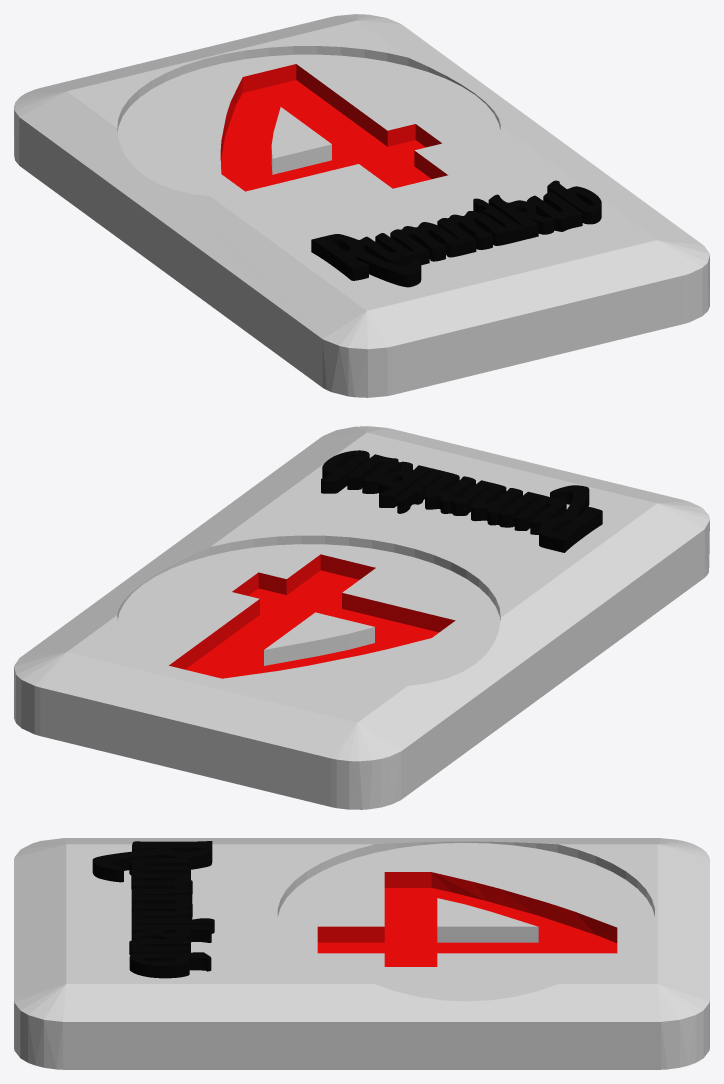
The picture shows the model from 3 angles, top to bottom: view 1: azimuth 30°, elevation 25°; view 2: azimuth 150°, elevation 25°; view 3: azimuth 270°, elevation 25°; orthographic projection.
Parts seen in each view (by area): view 1: Rummikub 4 Fixed, Rummikub 1 Fixed.001; view 2: Rummikub 4 Fixed, Rummikub 1 Fixed.001; view 3: Rummikub 4 Fixed, Rummikub 1 Fixed.001.
Part boxes in pixels (x1,y1,x2,y2): Rummikub 4 Fixed: [14, 14, 709, 397]; Rummikub 1 Fixed.001: [311, 180, 601, 287]; Rummikub 4 Fixed: [14, 426, 709, 809]; Rummikub 1 Fixed.001: [321, 450, 602, 552]; Rummikub 4 Fixed: [14, 838, 709, 1069]; Rummikub 1 Fixed.001: [92, 841, 214, 978].
Size of the model in its own units: 2499 by 482 by 4000.
